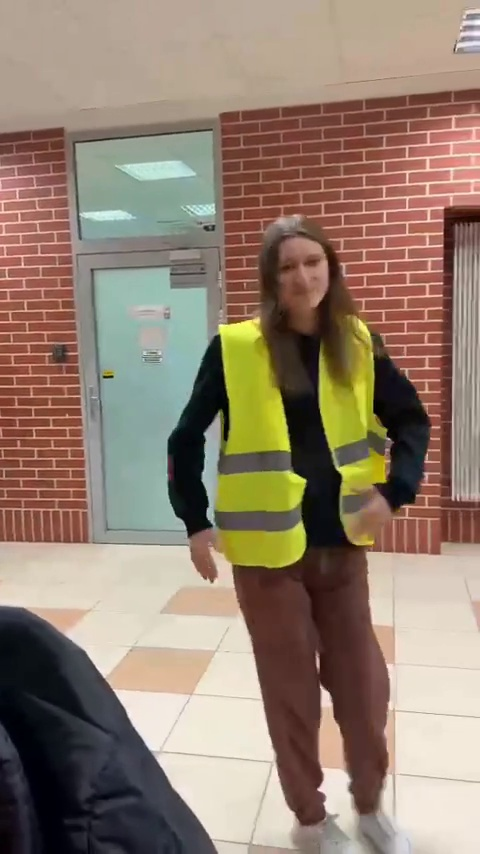vest: (192, 216, 428, 842)
